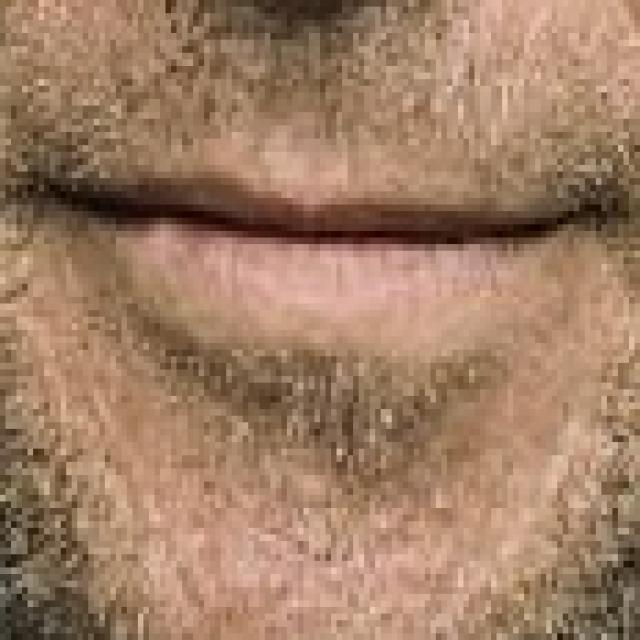closed-mouth: (34, 152, 600, 326)
